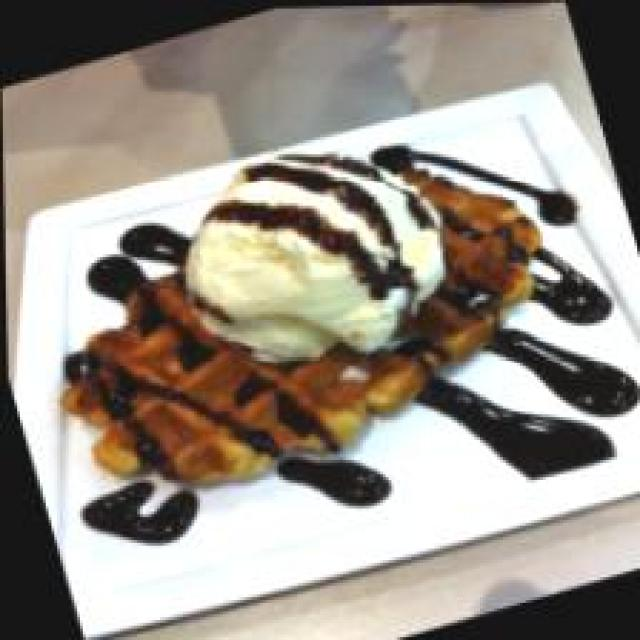Waffles: (24, 112, 599, 517)
